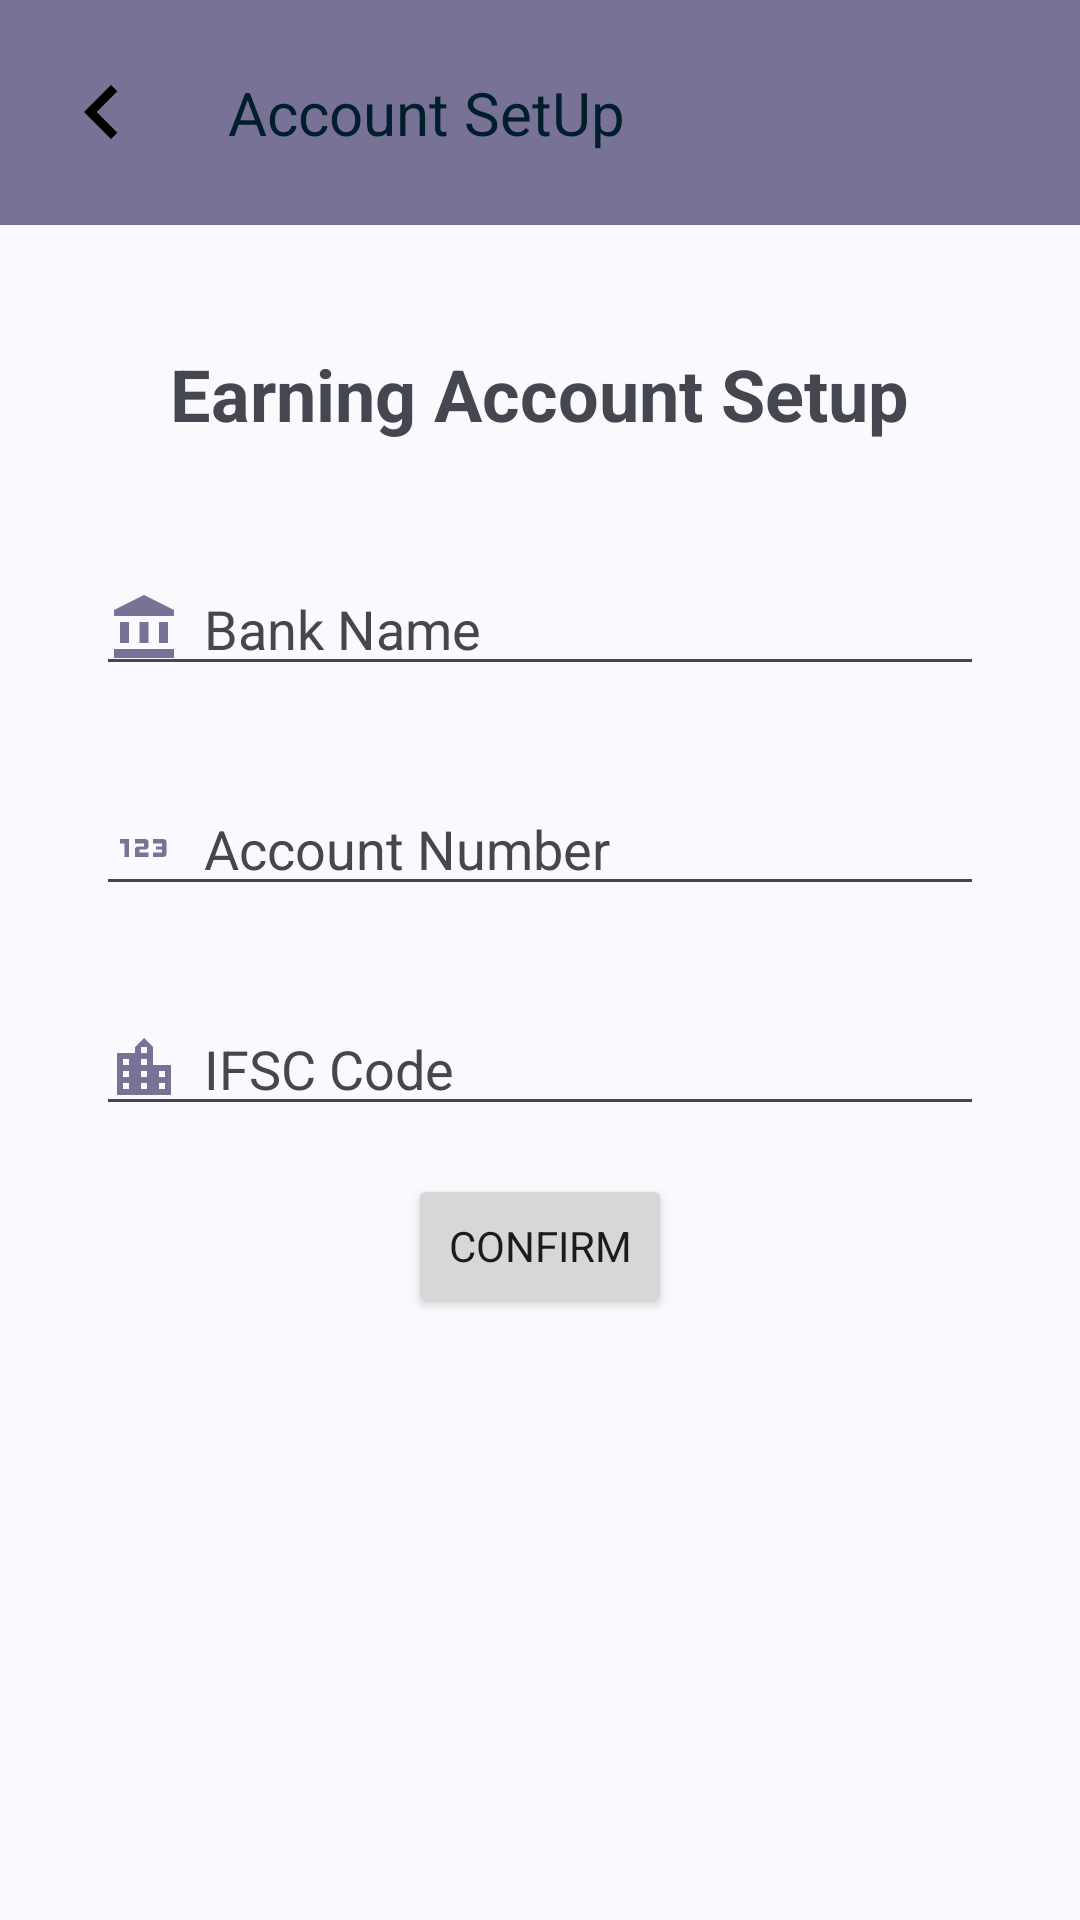

Icon bounding boxes for this 1080 × 1920 phone screenshot, format (x1, y1, x2, y2):
chevron left: (84, 85, 117, 139)
